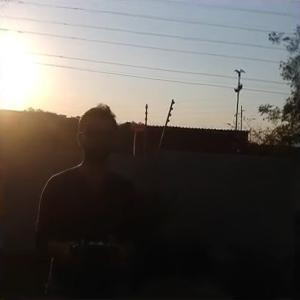follow: (31, 99, 143, 298)
